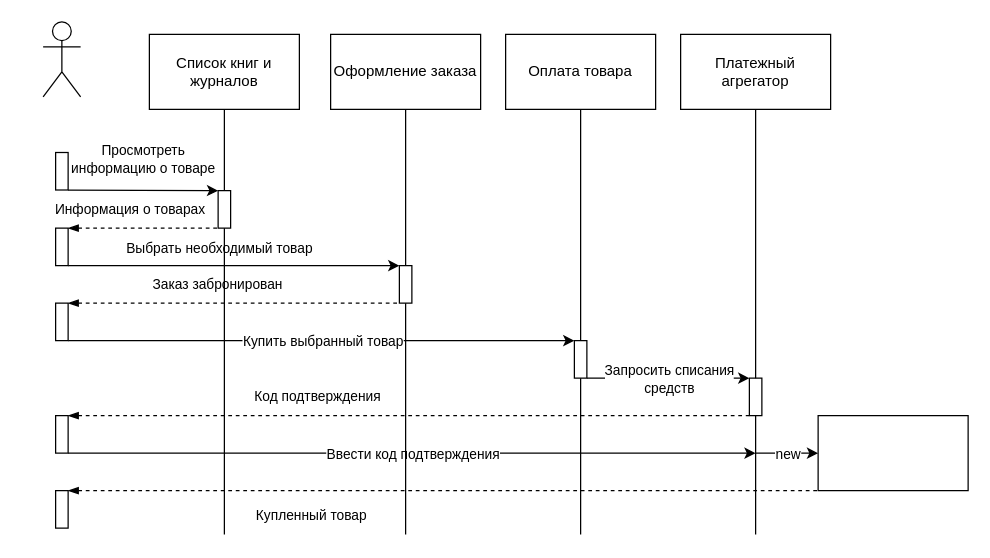
Some shapes in this 990 by 558 pixel diagram are drawn without their labels. The shapes that lost their labels are listed below. From the top down, each one's centre as x and y in pixels, then its label:
At pixel 61 59: "Покупатель".
At pixel 892 452: "Оплаченный товар".
